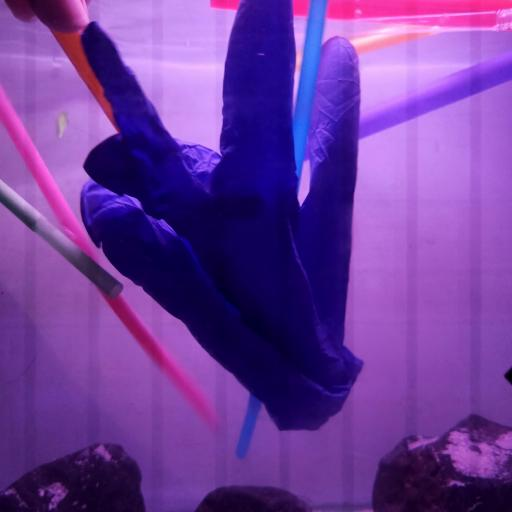glove: (76, 0, 366, 434)
plastic_straw: (0, 85, 221, 431), (0, 178, 123, 300), (358, 48, 512, 142), (52, 29, 128, 132), (292, 0, 329, 191), (296, 30, 438, 73), (210, 0, 511, 20), (325, 7, 512, 35)
